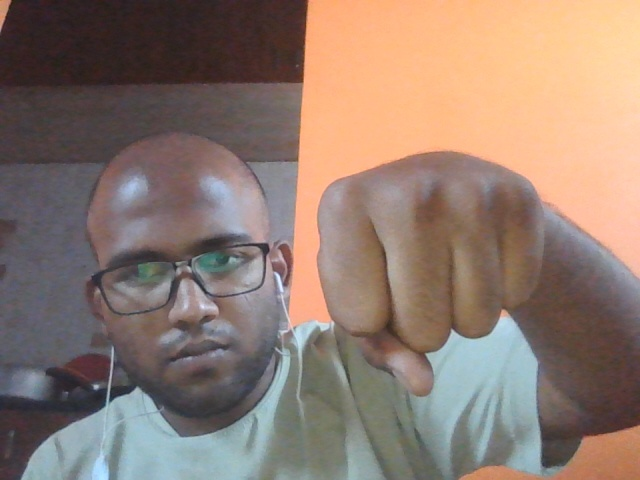yes: (279, 114, 607, 434)
